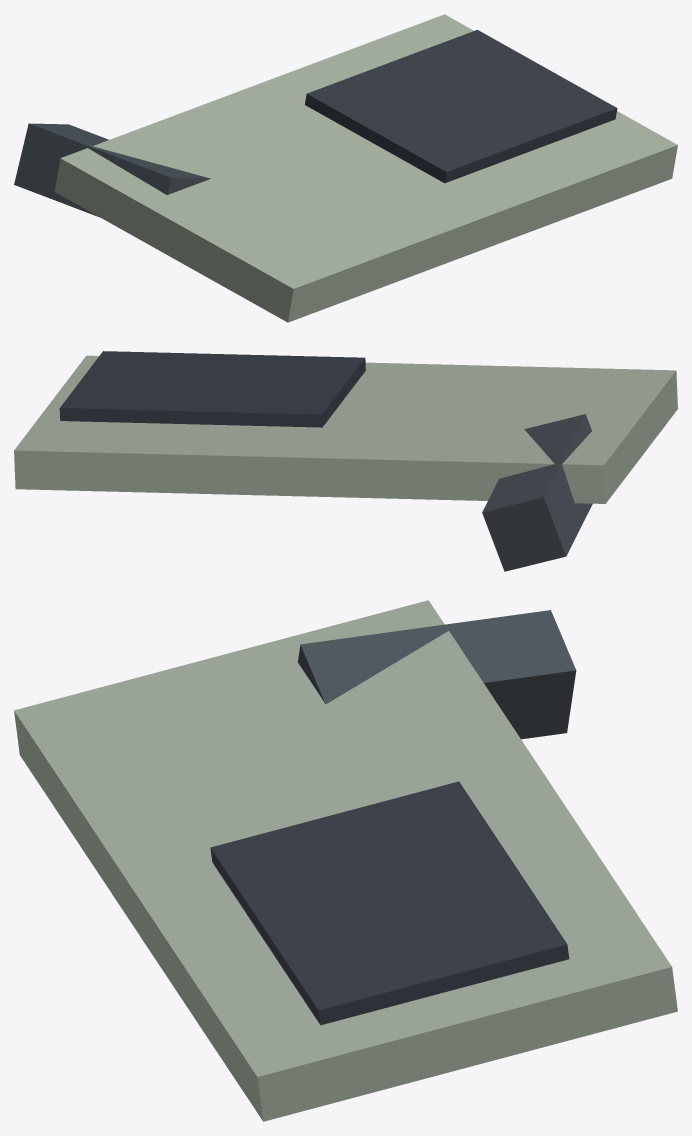
File: SH_HullShard_A_01.glb
3 views of the same model, one above another, from view 1: azimuth 30°, elevation 25°; view 2: azimuth 150°, elevation 25°; view 3: azimuth 270°, elevation 25° (orthographic). The views are drawn at different scales.
Parts seen in each view (by area): view 1: SH_HullShard_A_01; view 2: SH_HullShard_A_01; view 3: SH_HullShard_A_01.
Boxes of the visible parts, x1=… form: SH_HullShard_A_01: x1=14, y1=14, x2=677, y2=322; SH_HullShard_A_01: x1=14, y1=351, x2=677, y2=571; SH_HullShard_A_01: x1=14, y1=600, x2=677, y2=1121.
Size of the model in its own units: 1.01 by 0.1915 by 0.7565.
1 material, 1 textured.
